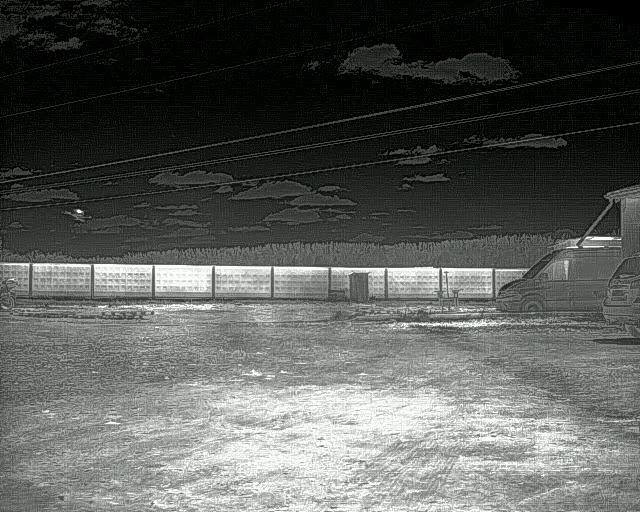drone-thermal: (61, 205, 93, 224)
